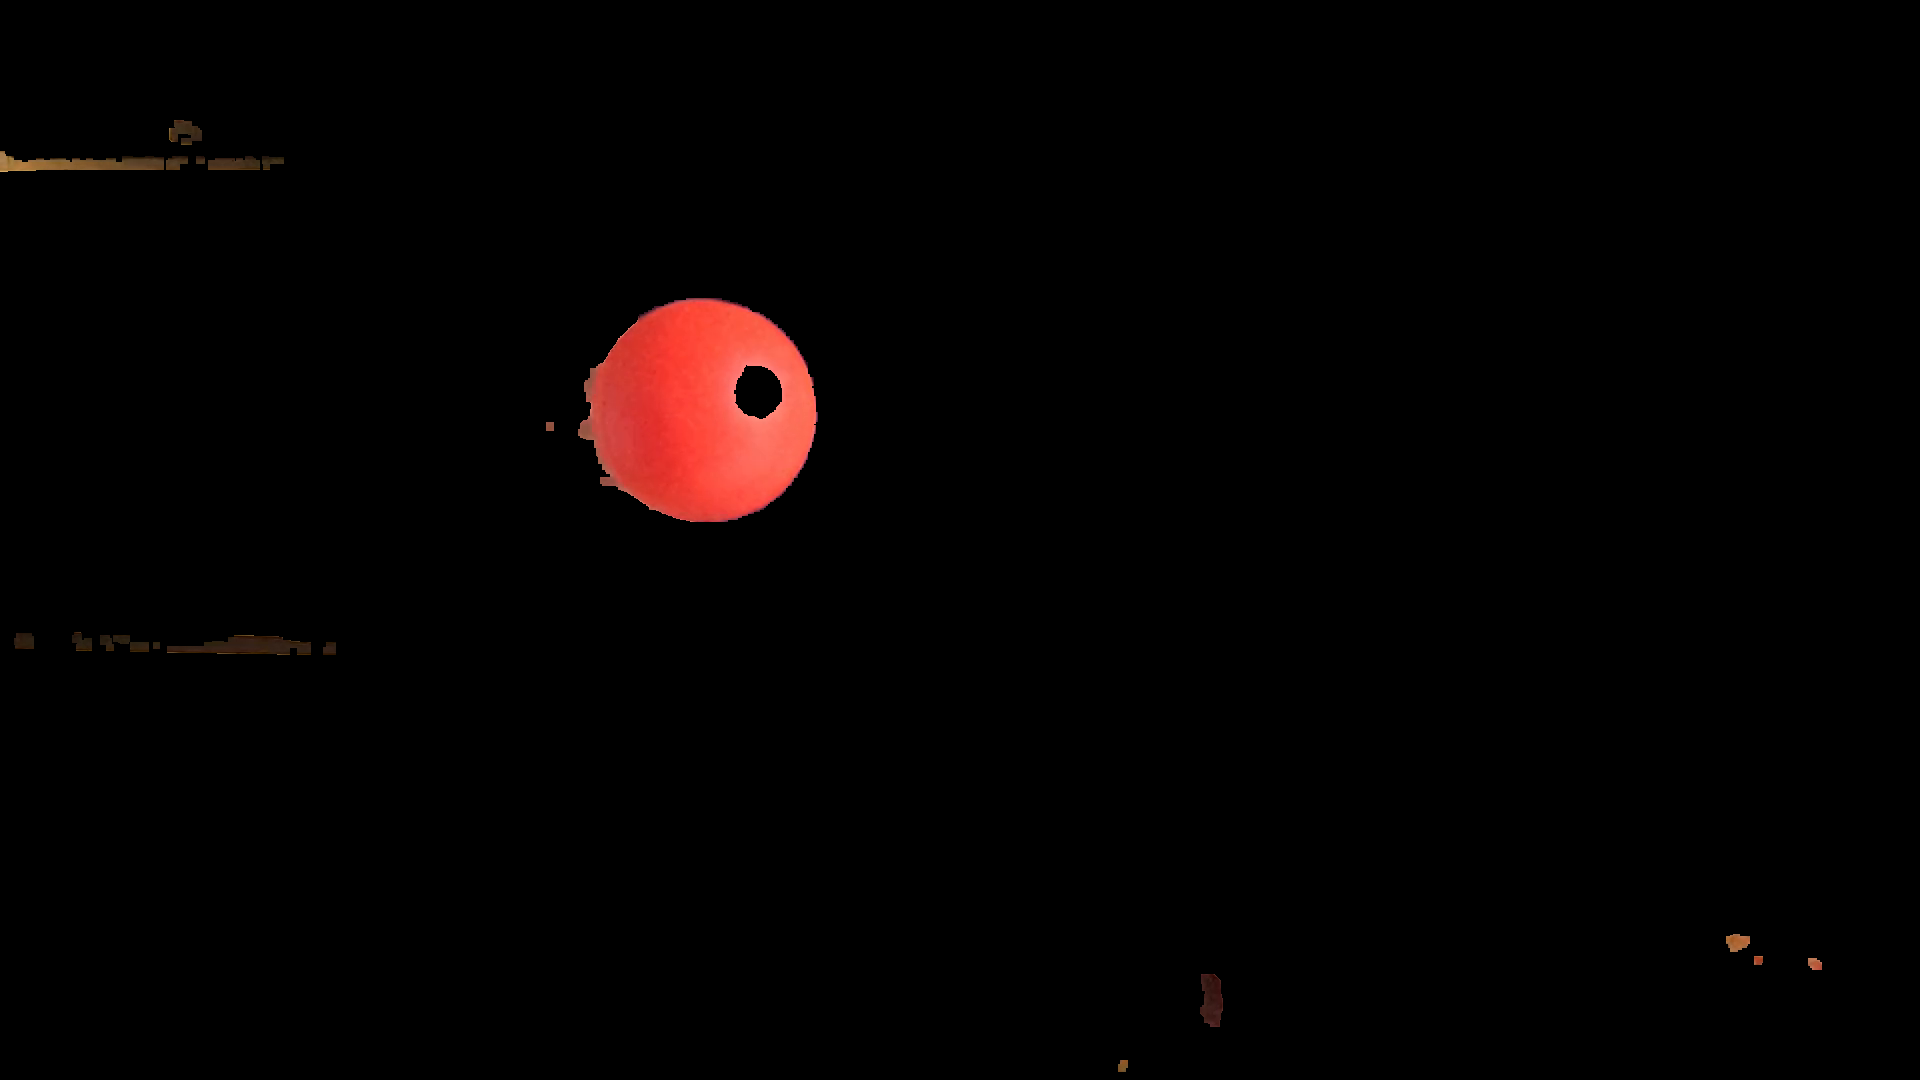Ball: (593, 295, 819, 524)
